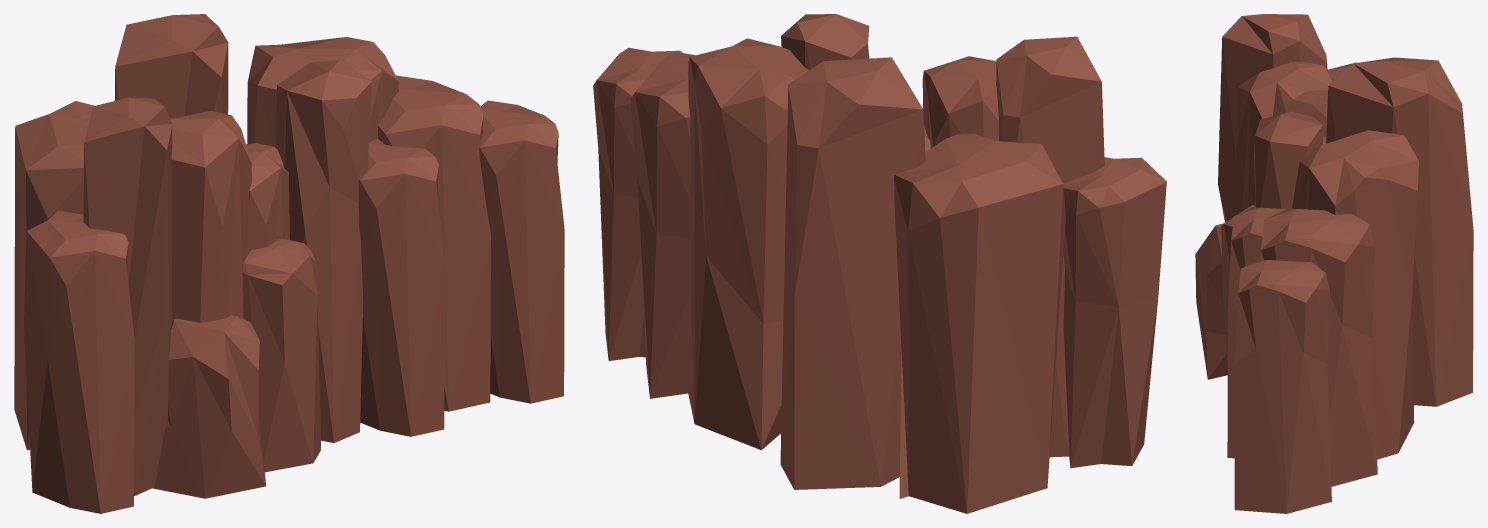
The model's file is crag_012.fbx.
3 views of the same model, side by side, from view 1: azimuth 30°, elevation 25°; view 2: azimuth 150°, elevation 25°; view 3: azimuth 270°, elevation 25° (orthographic). The views are drawn at different scales.
Parts seen in each view (by area): view 1: crag_012; view 2: crag_012; view 3: crag_012.
Boxes of the visible parts, x1,y1,x2,y2 form: crag_012: (14,14,564,513); crag_012: (593,14,1166,513); crag_012: (1195,14,1473,513).
Size of the model in its own units: 4857 by 2621 by 3380.
